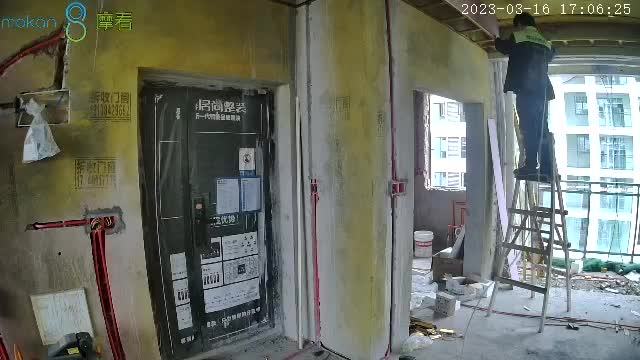people: (495, 11, 554, 179)
window: (546, 76, 640, 251), (427, 96, 464, 188)
